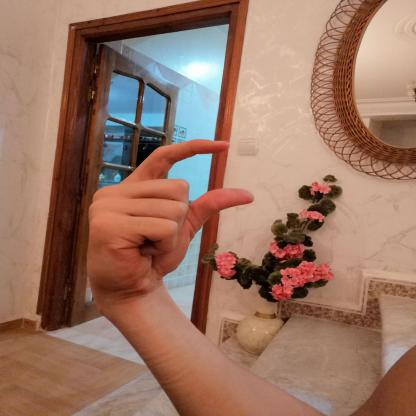DELL: (68, 130, 272, 305)
